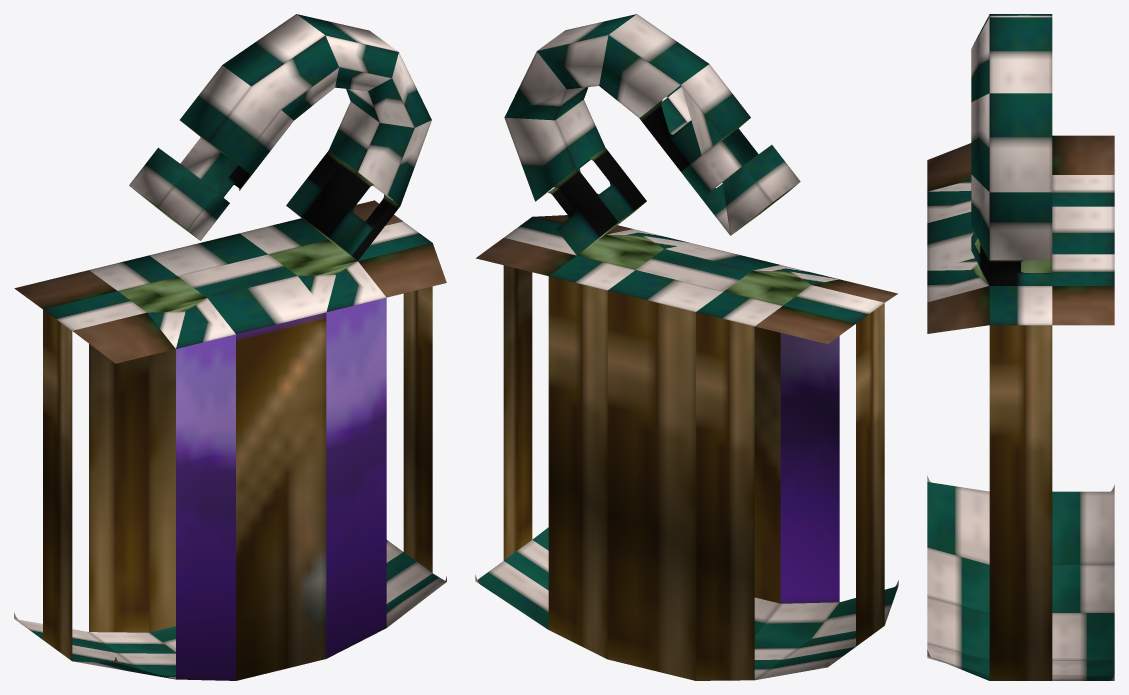
The picture shows the model from 3 angles, left to right: view 1: azimuth 30°, elevation 25°; view 2: azimuth 150°, elevation 25°; view 3: azimuth 270°, elevation 25°; orthographic projection. The views are drawn at different scales.
Parts seen in each view (by area): view 1: T1L2M002_27; view 2: T1L2M002_27; view 3: T1L2M002_27.
Part boxes in pixels (bbox=[...]): T1L2M002_27: bbox=[14, 14, 446, 680]; T1L2M002_27: bbox=[475, 14, 898, 680]; T1L2M002_27: bbox=[927, 14, 1114, 680].
Bounding box in the file's own units: 0.4795 × 0.7764 × 0.2002.
